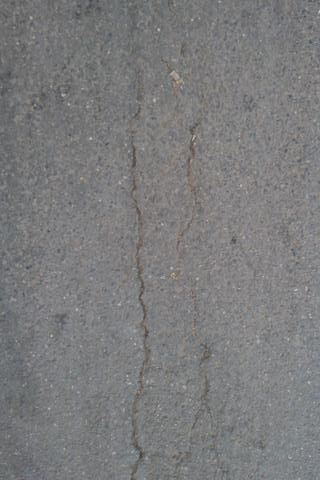A: (179, 113, 223, 447), (125, 116, 153, 480)
